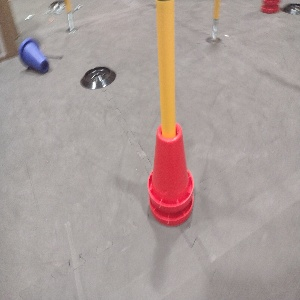Blue_1: (16, 36, 50, 74)
Red_2: (146, 121, 195, 226)
